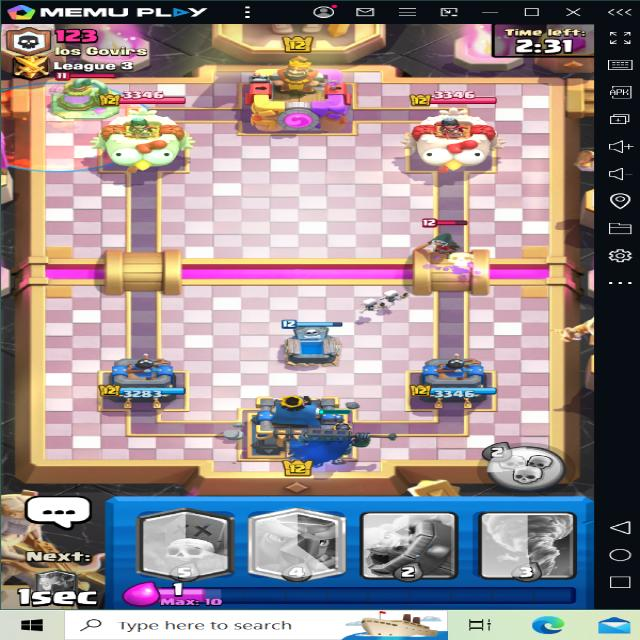bandit: (398, 214, 480, 265)
elixir-collector: (50, 72, 118, 118)
